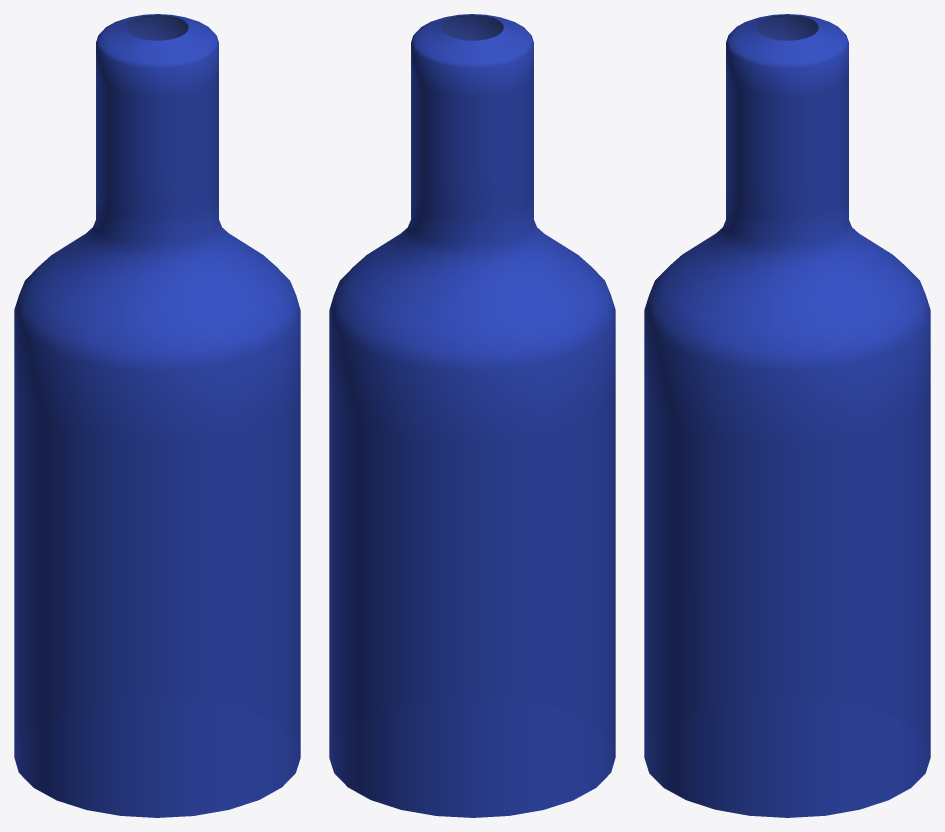
Rendered from Bottle.fbx.
3 renders of one model, left to right at view 1: azimuth 30°, elevation 25°; view 2: azimuth 150°, elevation 25°; view 3: azimuth 270°, elevation 25°, orthographic.
Visible parts, largest first — view 1: Loft001; view 2: Loft001; view 3: Loft001.
Boxes of the visible parts, x1,y1,x2,y2 form: Loft001: (14,14,300,817); Loft001: (329,14,615,817); Loft001: (644,14,930,817).
Bounding box in the file's own units: 40646 × 114209 × 40646.
